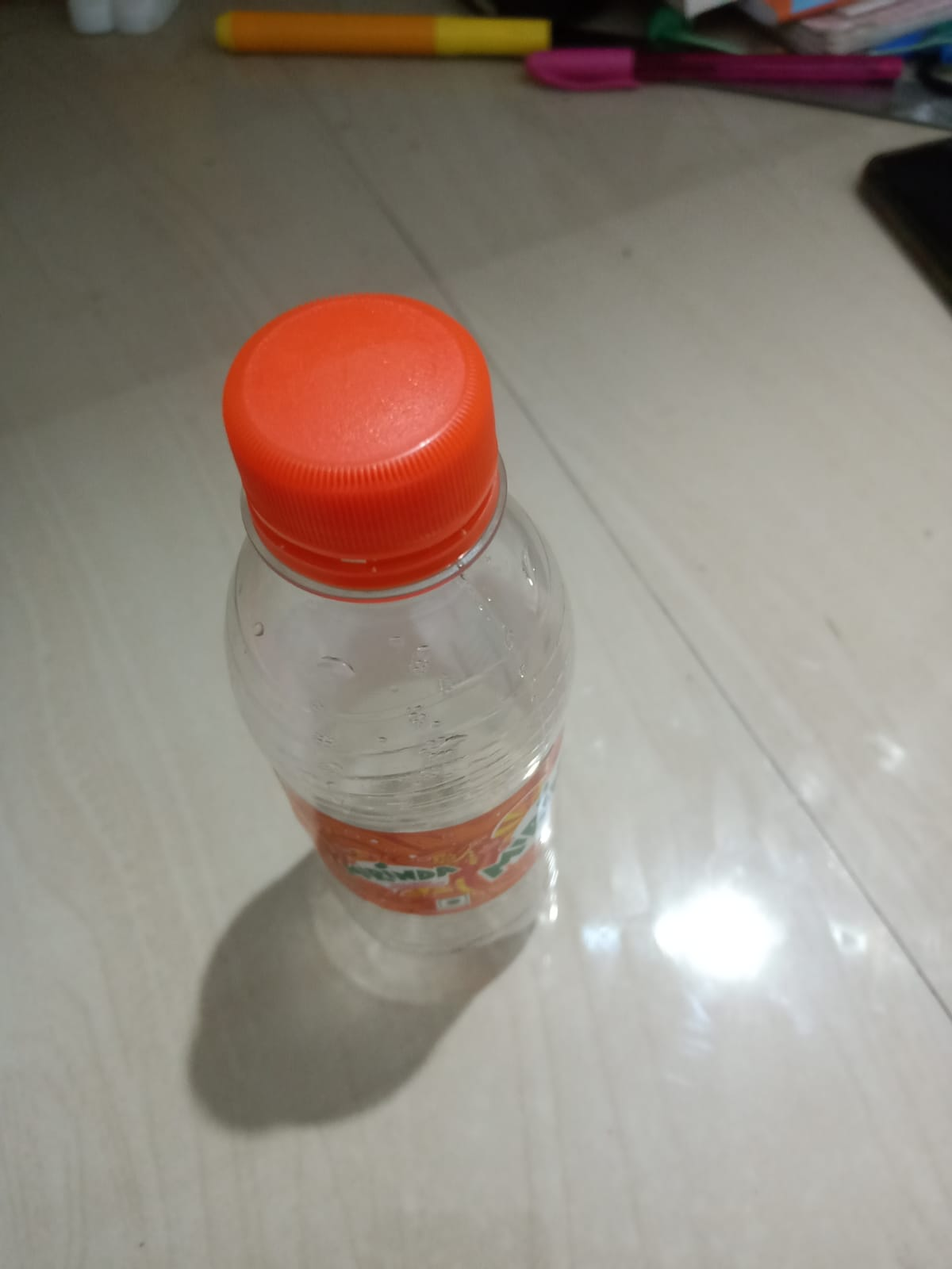plastic: (154, 283, 623, 982)
